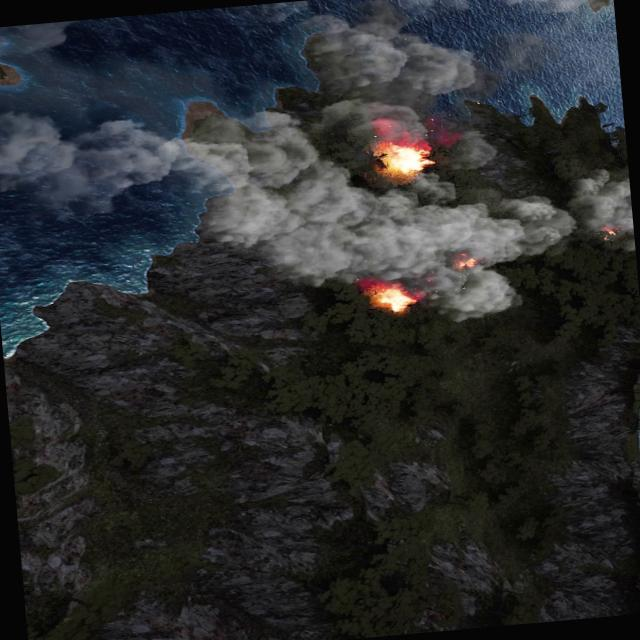fire: (377, 141, 434, 178), (368, 282, 418, 316), (451, 253, 478, 271), (598, 226, 616, 239)
smoke: (0, 72, 625, 361), (299, 0, 494, 176), (567, 156, 636, 264), (390, 0, 613, 24), (0, 20, 73, 54)
